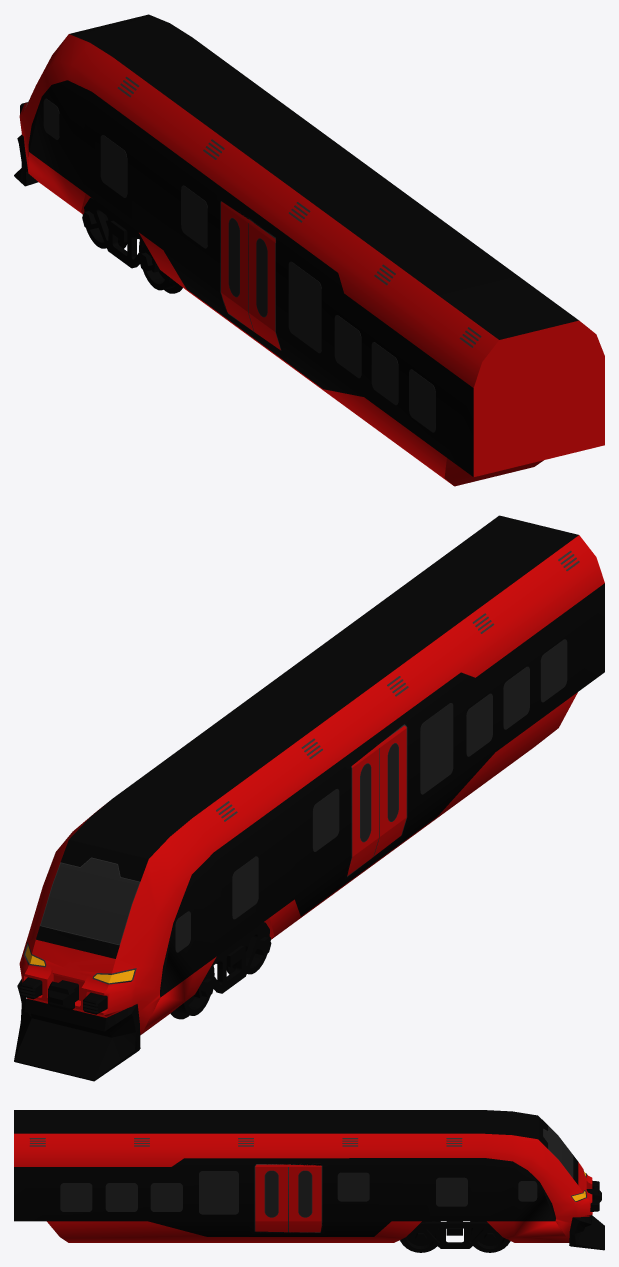
The picture shows the model from 3 angles, top to bottom: view 1: azimuth 30°, elevation 25°; view 2: azimuth 150°, elevation 25°; view 3: azimuth 270°, elevation 25°; orthographic projection. The views are drawn at different scales.
Visible parts, largest first — view 1: Box009, Line005; view 2: Box009, Line005, Box012; view 3: Box009, Line005, Circle020, Circle018, Circle021, Circle019.
Boxes of the visible parts, x1=… form: Box009: x1=14, y1=14, x2=604, y2=486; Line005: x1=84, y1=197, x2=159, y2=272; Box009: x1=14, y1=515, x2=604, y2=1081; Line005: x1=194, y1=922, x2=269, y2=997; Box012: x1=48, y1=980, x2=78, y2=1010; Box009: x1=14, y1=1110, x2=604, y2=1250; Line005: x1=411, y1=1222, x2=498, y2=1248; Circle020: x1=402, y1=1221, x2=439, y2=1252; Circle018: x1=471, y1=1221, x2=508, y2=1252; Circle021: x1=400, y1=1221, x2=440, y2=1252; Circle019: x1=469, y1=1221, x2=510, y2=1252.
Size of the model in its own units: 1.77 by 2.52 by 11.3.
